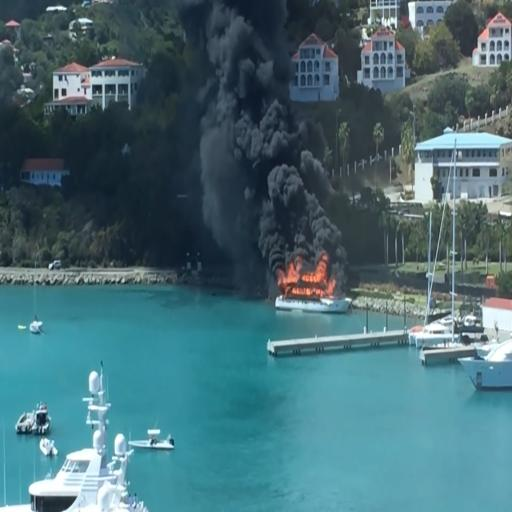fire: (290, 254, 338, 305)
smoke: (210, 26, 312, 244)
